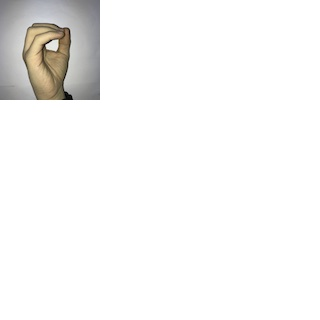rock: (19, 18, 76, 98)
